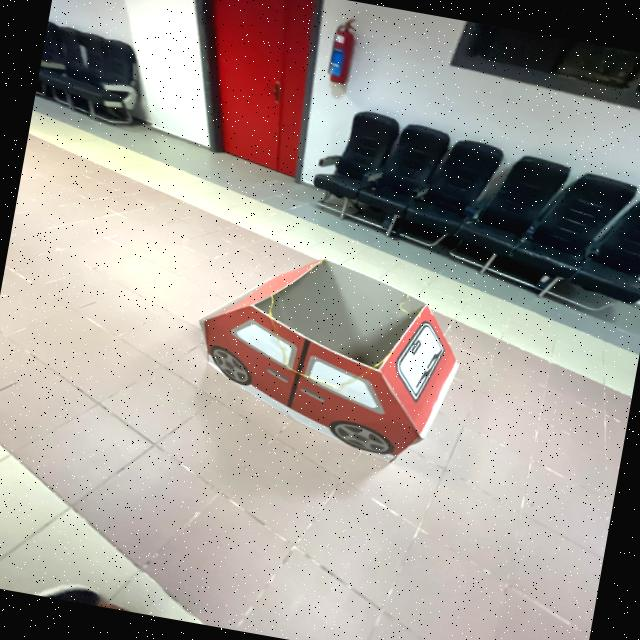red_car: (167, 220, 481, 493)
